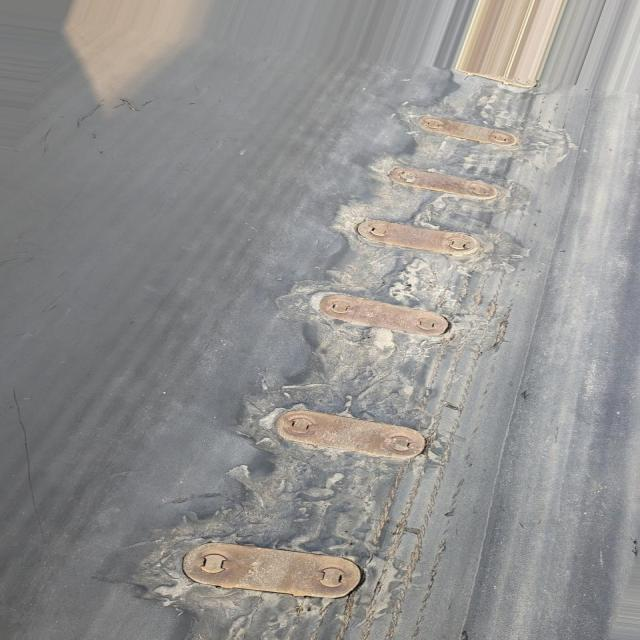patch work: (141, 66, 567, 640)
